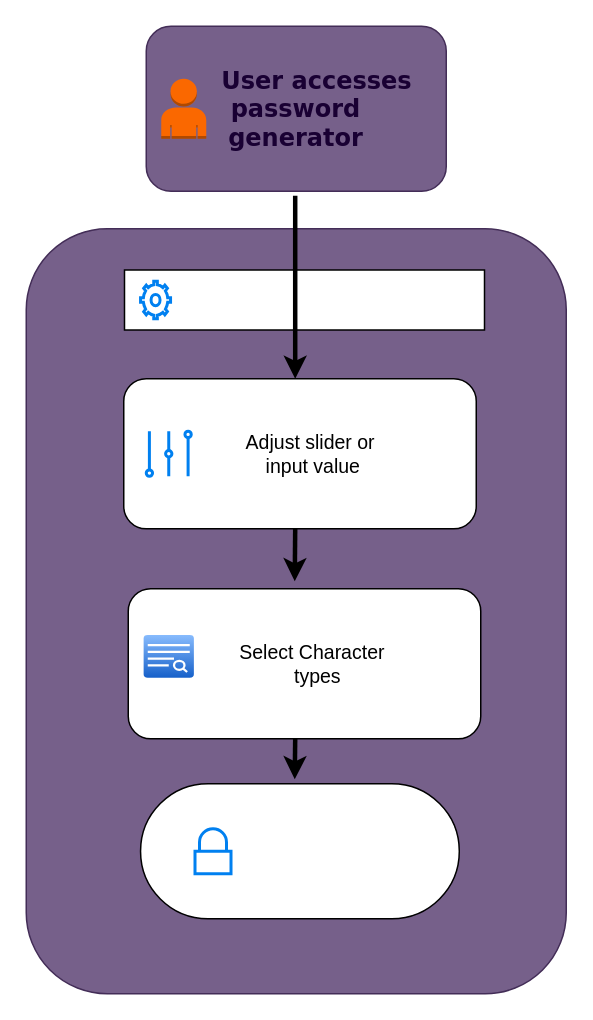
The diagram is 593 pixels wide and 1020 high, and some of its shapes have lost their labels. The box of each missing label's shape, as (x1, y1, x2, y2) in pixels:
Generate Password: (139, 782, 459, 919)
Password Customization: (123, 268, 484, 330)
